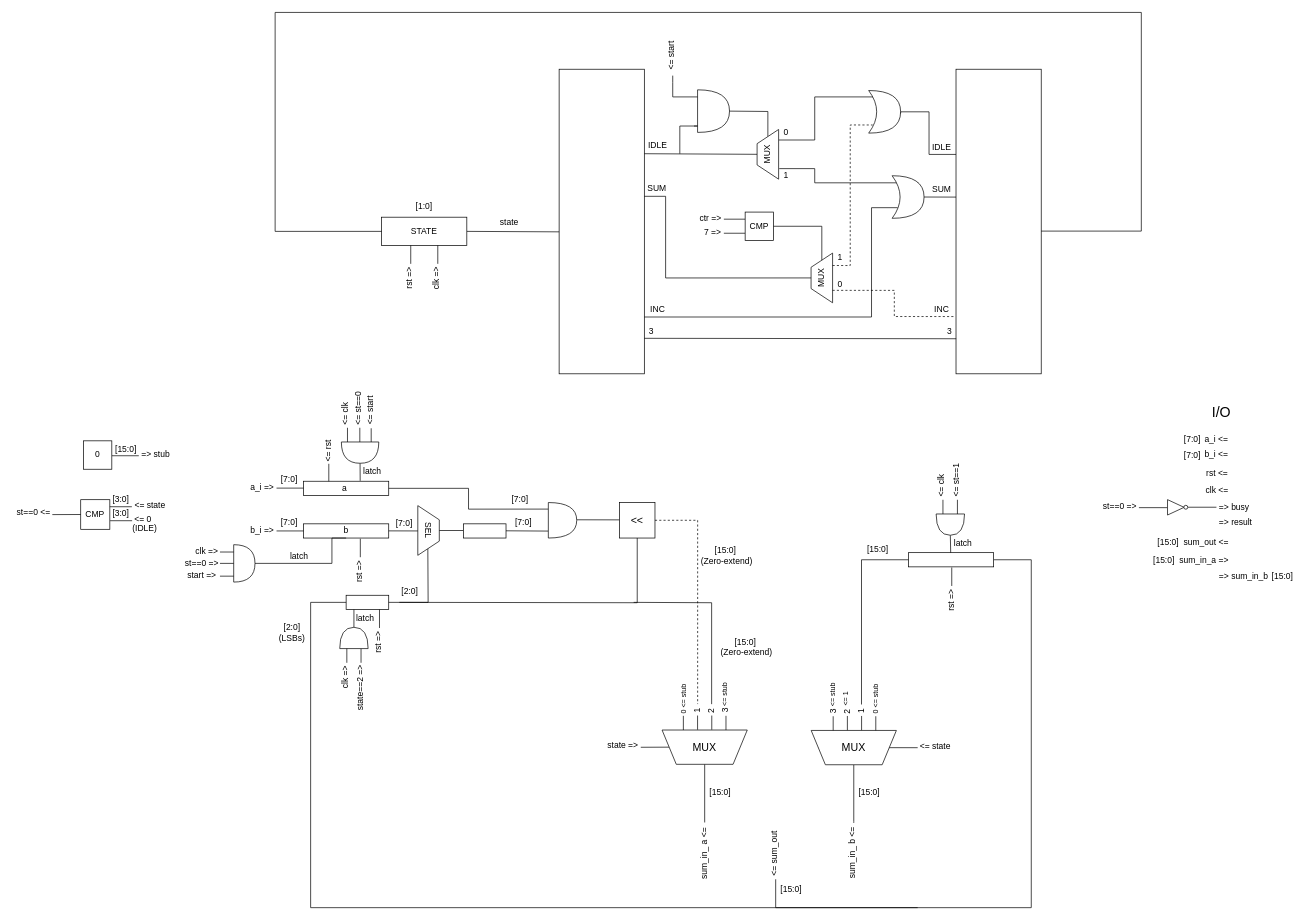
The diagram is 1309 pixels wide and 921 high, and some of its shapes have lost their labels. The centre of each missing label's shape, as x and y in pixels:
"ctr" belongs at pixel 367 602.
"expander" belongs at pixel 484 530.
"result" belongs at pixel 951 559.
